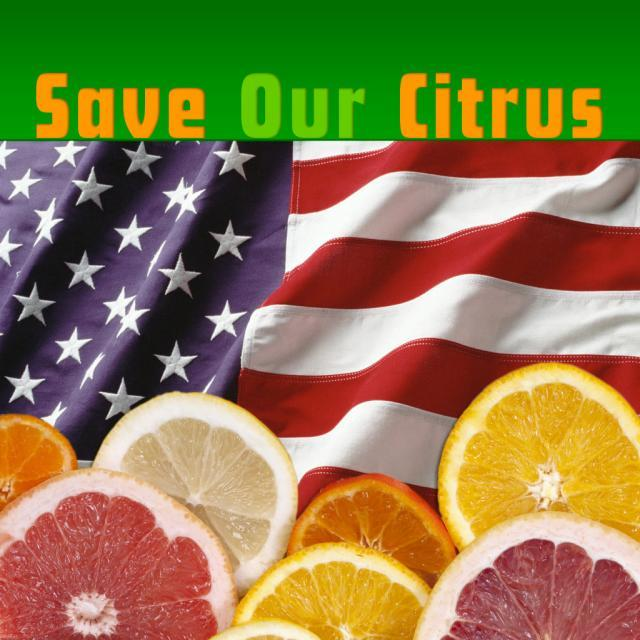Lemon: (0, 358, 639, 639)
